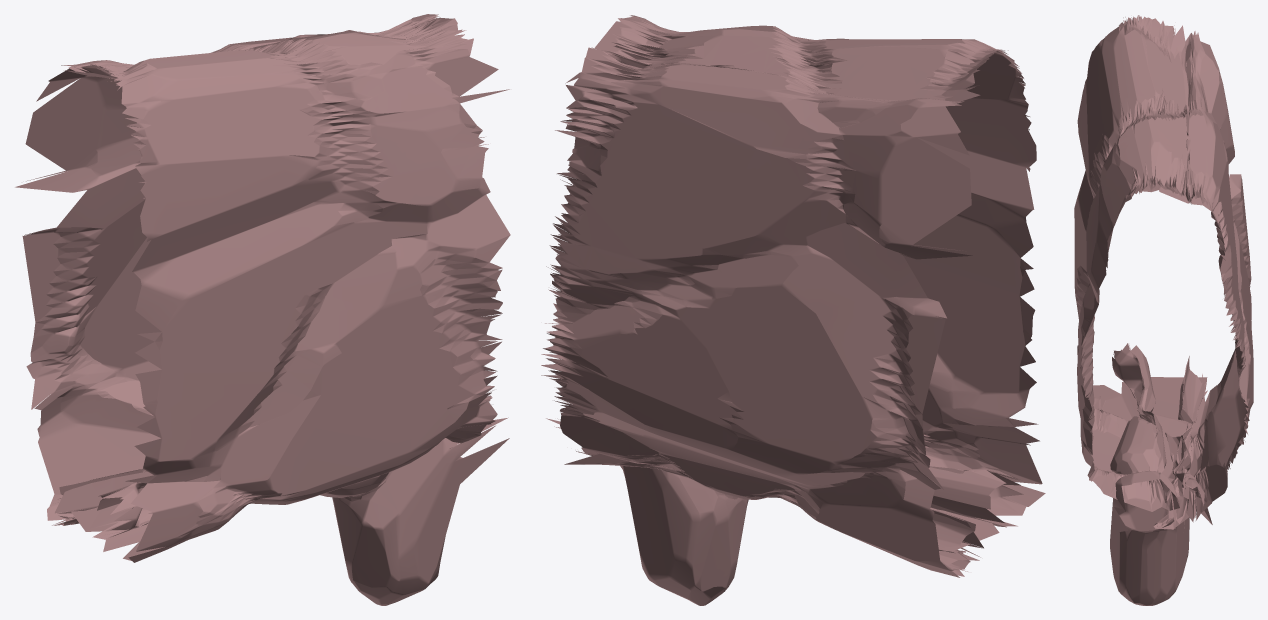
The model's file is mini_canyon.fbx_Cube__12__008LODs.fbx.
The picture shows the model from 3 angles, left to right: view 1: azimuth 30°, elevation 25°; view 2: azimuth 150°, elevation 25°; view 3: azimuth 270°, elevation 25°; orthographic projection. The views are drawn at different scales.
Parts seen in each view (by area): view 1: Cube (12).008_LOD0; view 2: Cube (12).008_LOD0; view 3: Cube (12).008_LOD0.
Part boxes in pixels (bbox=[...]): Cube (12).008_LOD0: bbox=[15, 14, 510, 605]; Cube (12).008_LOD0: bbox=[541, 15, 1045, 605]; Cube (12).008_LOD0: bbox=[1074, 15, 1253, 605].
Size of what is drawn, in the model's own units: 1817 by 2373 by 805.
